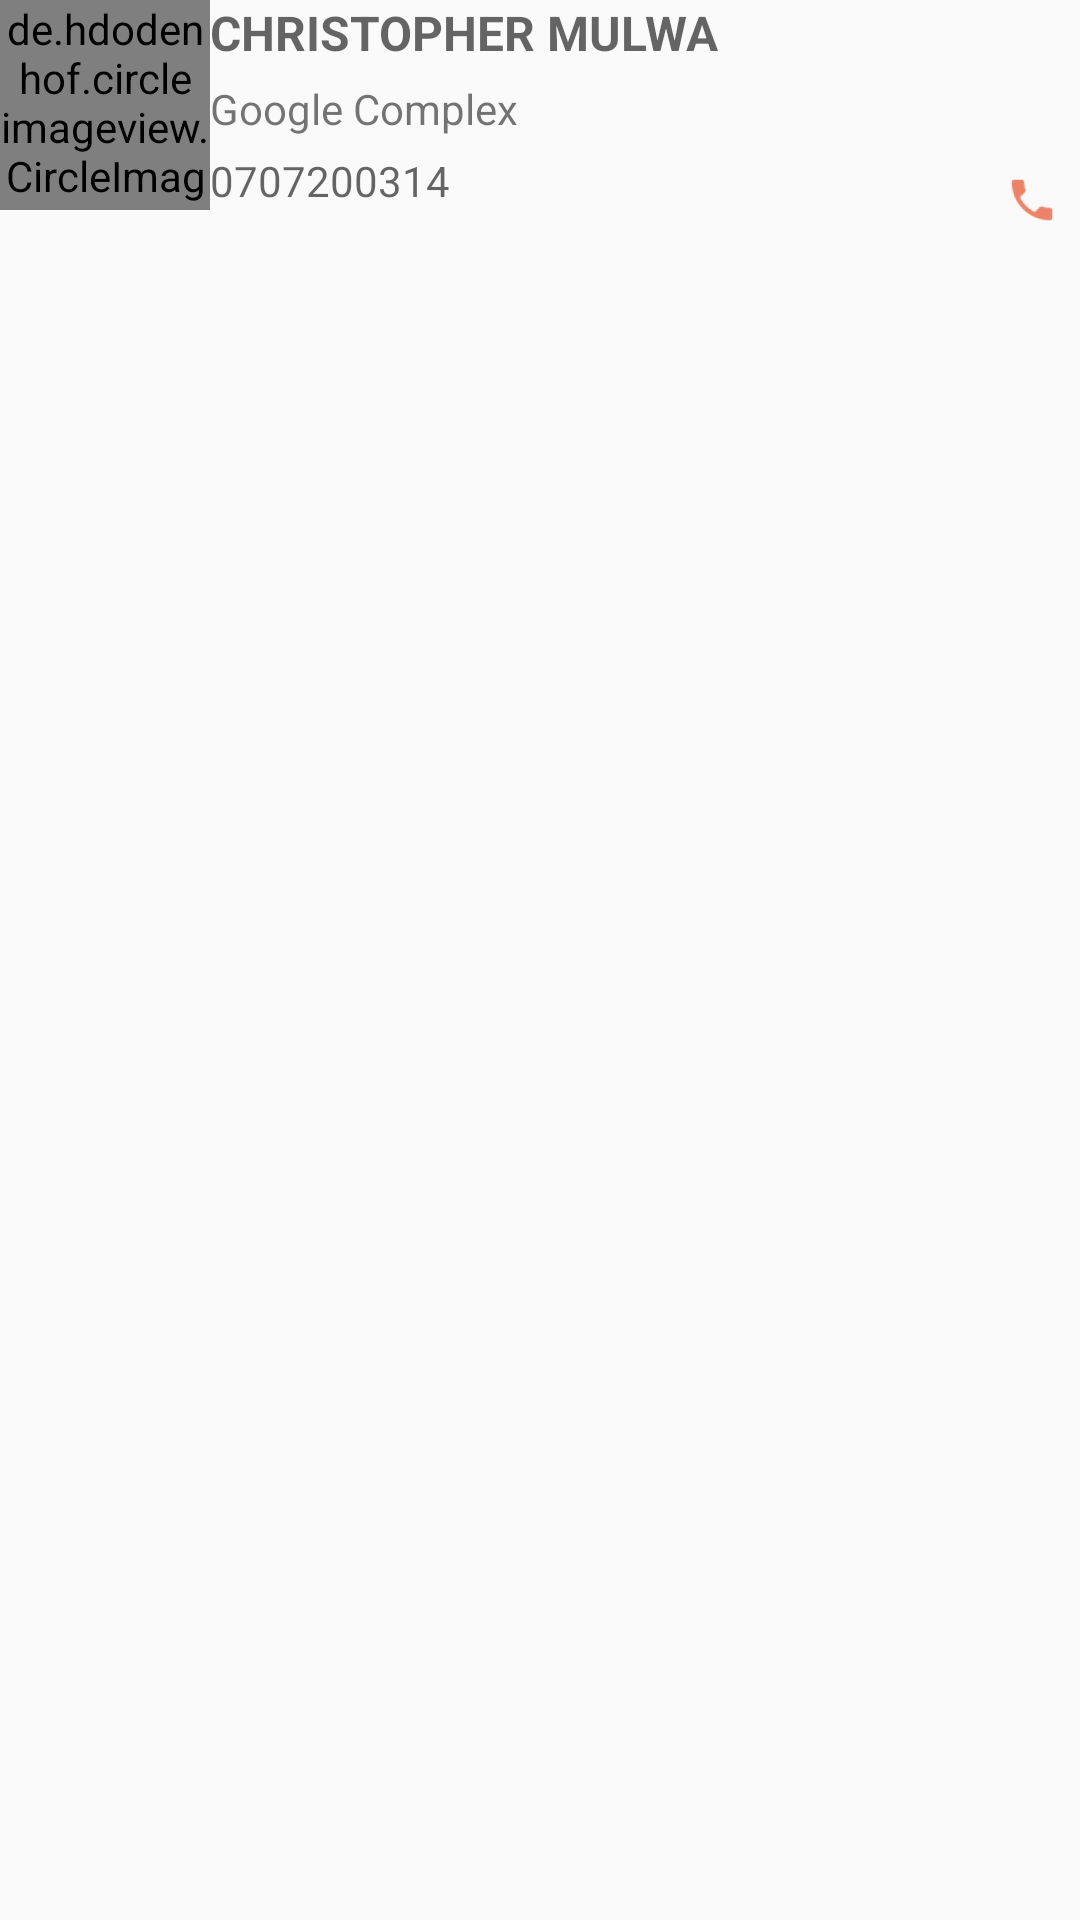

Screen size 1080x1920. Icon name, then its box in pixels as (x1, y1, x2, y2):
call: (1011, 179, 1053, 221)
